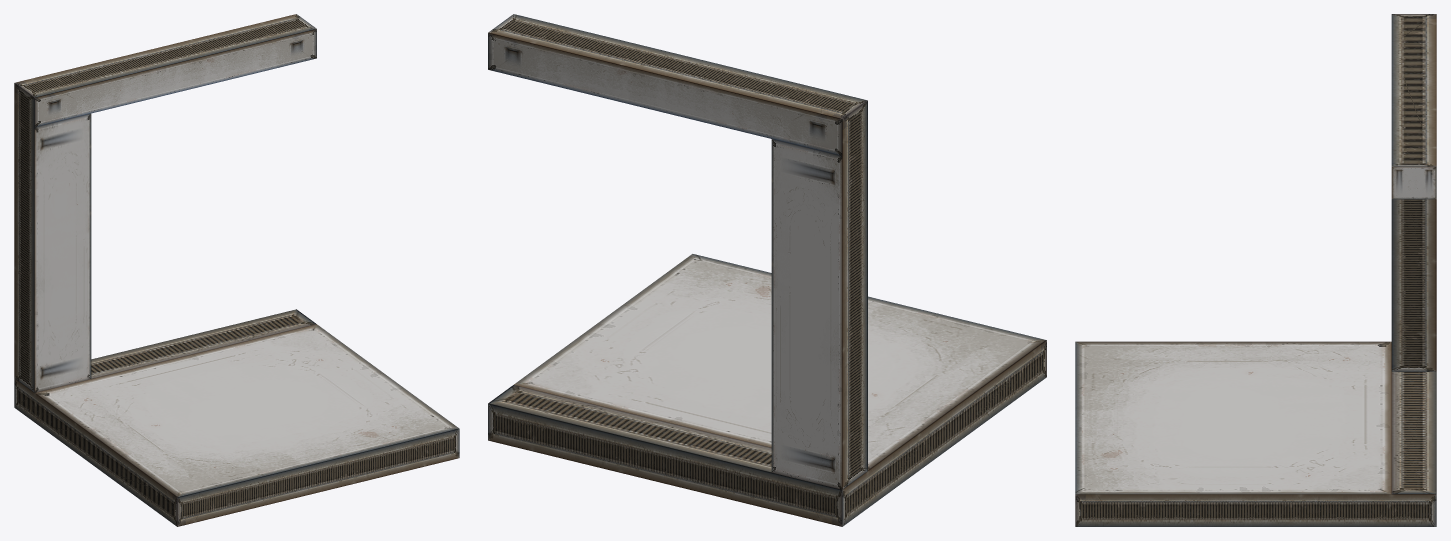
The model's file is scifi_floor_portal_small_L.FBX.
3 renders of one model, left to right at view 1: azimuth 30°, elevation 25°; view 2: azimuth 150°, elevation 25°; view 3: azimuth 270°, elevation 25°, orthographic. The views are drawn at different scales.
Parts seen in each view (by area): view 1: Plane194; view 2: Plane194; view 3: Plane194.
Boxes of the visible parts, x1,y1,x2,y2 form: Plane194: (14,14,459,526); Plane194: (488,14,1046,526); Plane194: (1075,14,1436,526).
Size of the model in its own units: 254 by 279 by 254.
